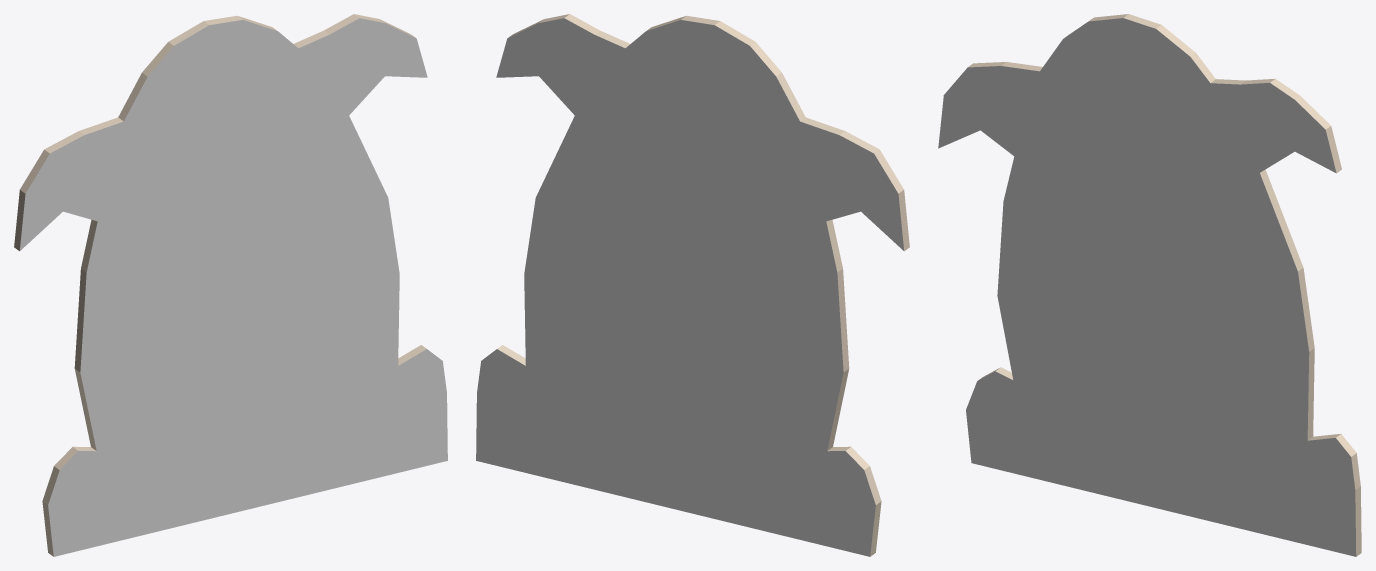
File: monster1.fbx
The picture shows the model from 3 angles, left to right: view 1: azimuth 30°, elevation 25°; view 2: azimuth 150°, elevation 25°; view 3: azimuth 330°, elevation 25°; orthographic projection. The views are drawn at different scales.
Parts seen in each view (by area): view 1: Monster1; view 2: Monster1; view 3: Monster1.
Part boxes in pixels (left/top/right/bottom): Monster1: left=14, top=14, right=447, bottom=556; Monster1: left=476, top=14, right=909, bottom=556; Monster1: left=938, top=14, right=1361, bottom=556.
Bounding box in the file's own units: 92.74 × 102 × 2.14.
